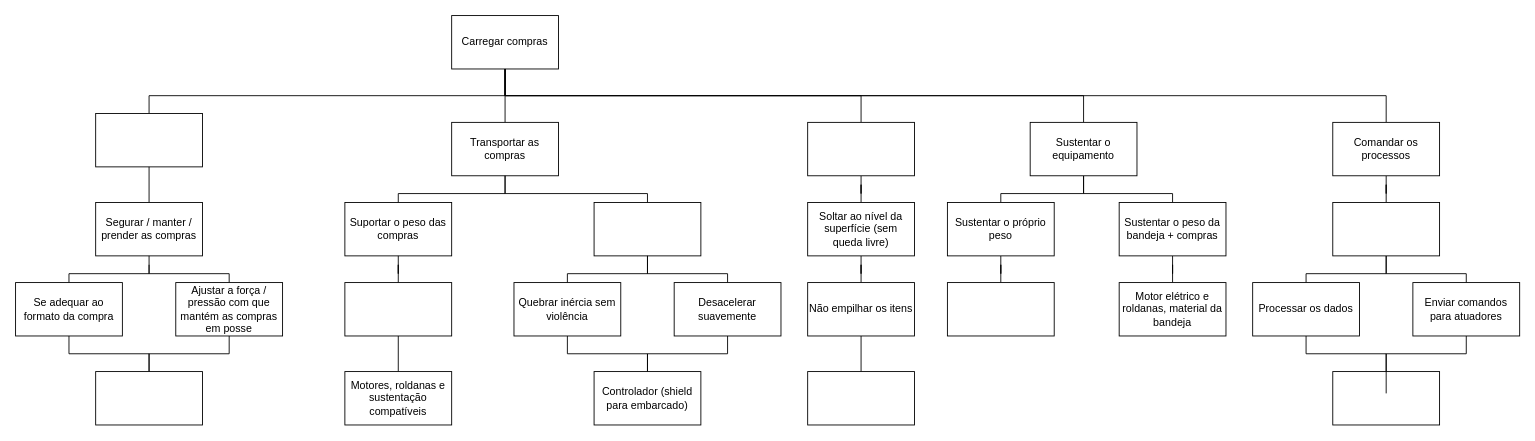
Image size: 1535x441. Some labels were removed from this diagram. Each missing label, with the centre of its shape:
"Colocar as compras" goes at [860,148].
"Grade metálica" goes at [1000,309].
"Malha resistente compatível com inércia das compras" goes at [148,398].
"Monitor touch screen" goes at [1386,229].
"Mover as compras em velocidade constante" goes at [647,229].
"Não entortar, quebrar ou romper" goes at [398,309].
"Pegar as compras" goes at [148,140].
"Sensor de pressão + sistema embarcado" goes at [860,398].
"Sistema embarcado" goes at [1386,398].
